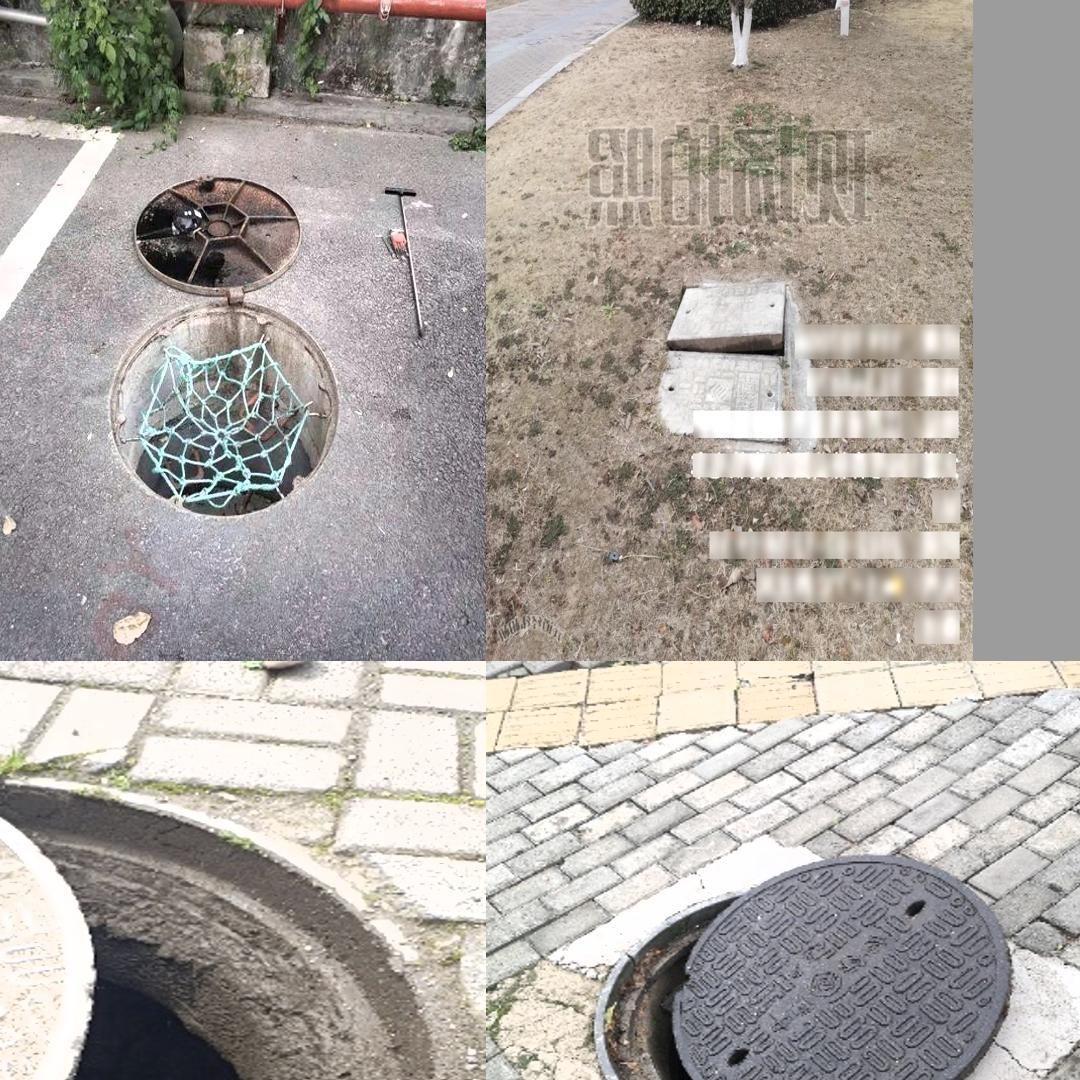uncovered: (0, 745, 437, 1080), (84, 155, 363, 526), (594, 856, 1013, 1080), (647, 277, 792, 450)
